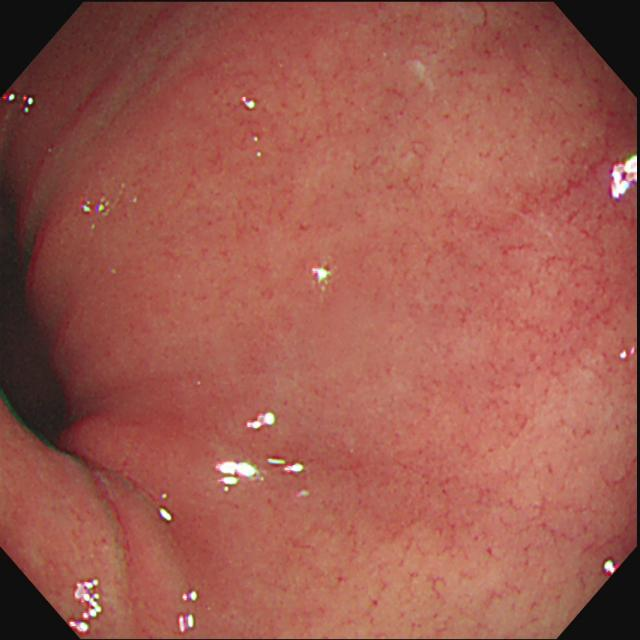E: (2, 181, 89, 471)
U: (212, 456, 308, 489), (69, 579, 104, 634), (609, 153, 639, 199), (177, 590, 199, 637), (314, 260, 338, 298), (2, 92, 38, 116), (80, 193, 111, 218), (245, 413, 278, 433), (158, 492, 175, 523), (602, 557, 624, 577), (240, 96, 259, 114)
